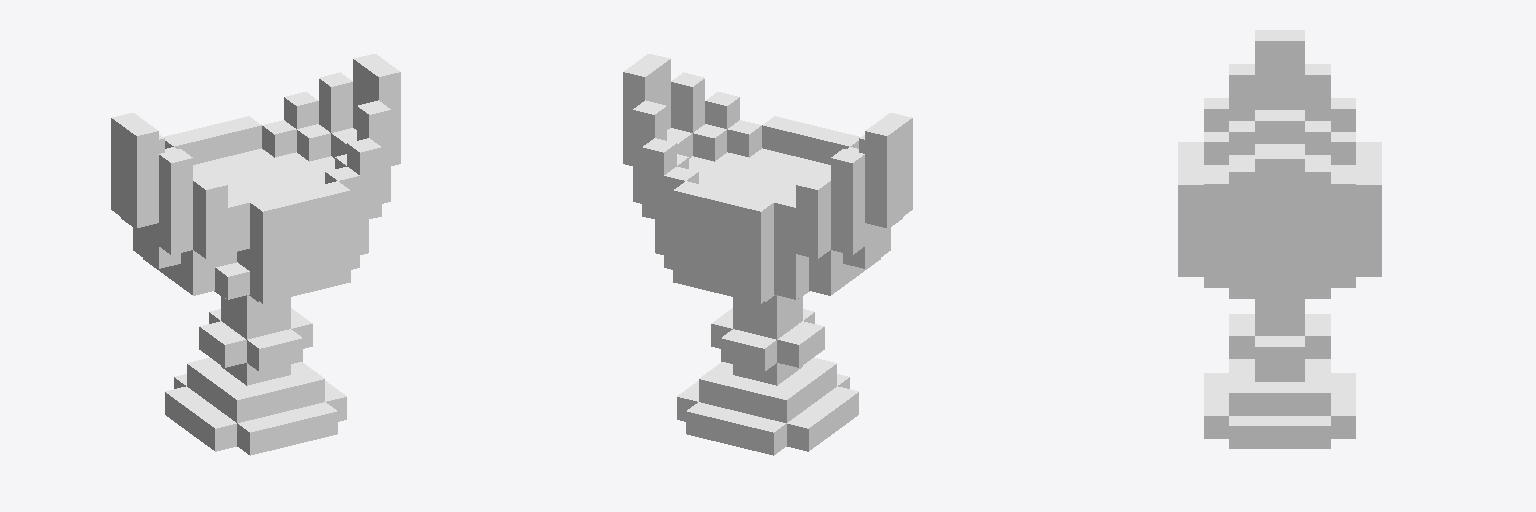
Rendered from TreasureItem.obj.
3 views of the same model, side by side, from view 1: azimuth 30°, elevation 25°; view 2: azimuth 150°, elevation 25°; view 3: azimuth 270°, elevation 25° (orthographic).
Visible parts, largest first — view 1: object 1; view 2: object 1; view 3: object 1.
Part boxes in pixels (x1,y1,x2,y2): object 1: (111, 54, 400, 455); object 1: (623, 54, 912, 455); object 1: (1178, 30, 1381, 448).
Bounding box in the file's own units: 1.2 × 1.4 × 0.8.